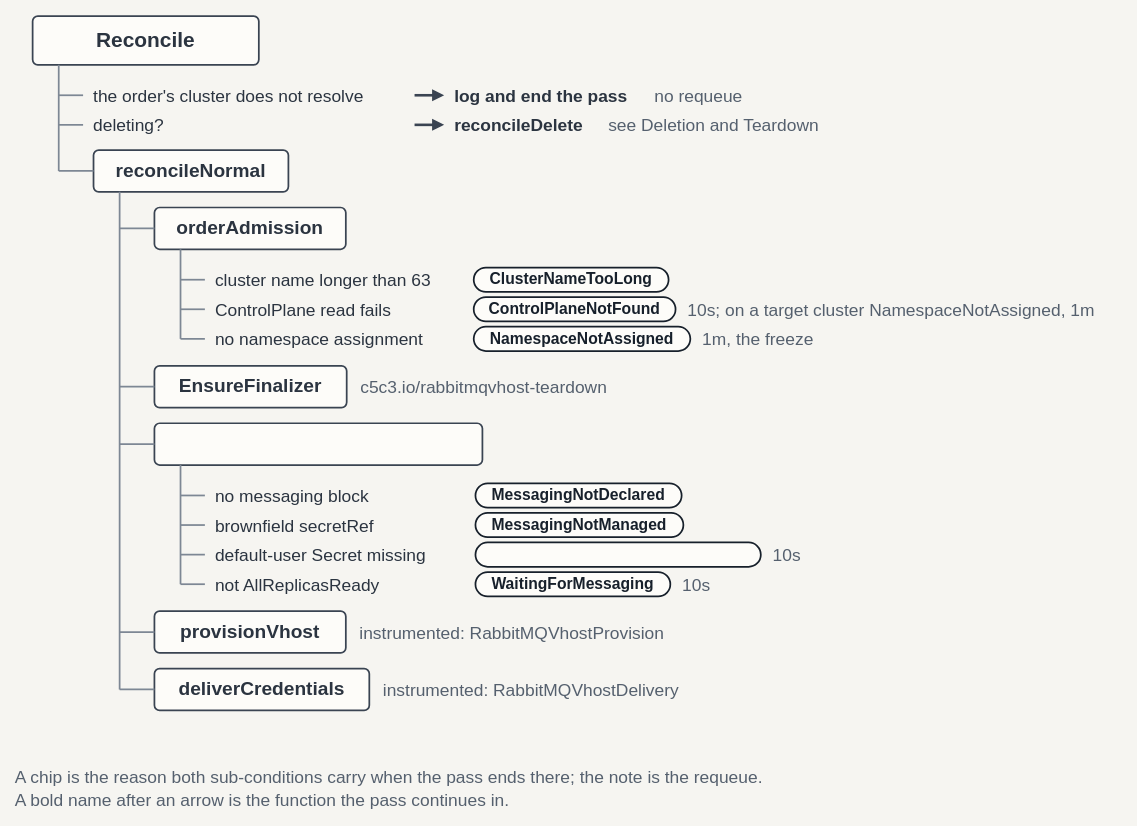
Some shapes in this 1137 by 826 pixel diagram are drawn without their labels. Each missing label, with the centre of its shape:
rabbitMQVhostMessagingGate: the point at 318,443
WaitingForMessagingCredentials: the point at 617,554
